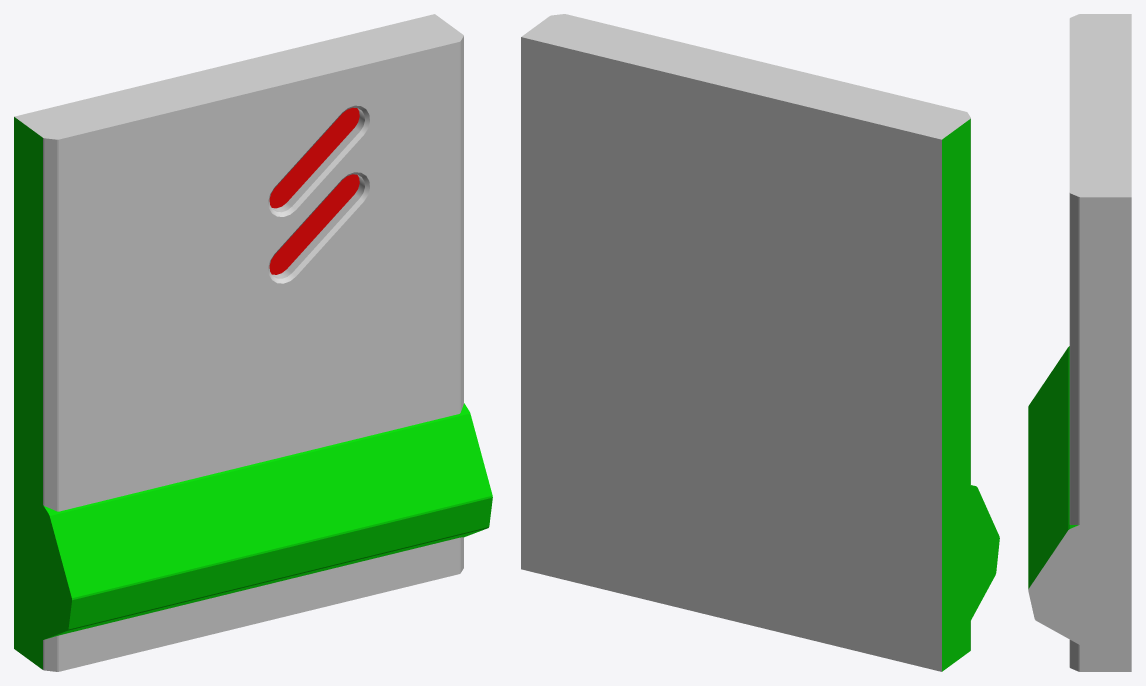
File: wall_cut_bump.obj
The picture shows the model from 3 angles, left to right: view 1: azimuth 30°, elevation 25°; view 2: azimuth 150°, elevation 25°; view 3: azimuth 270°, elevation 25°; orthographic projection. The views are drawn at different scales.
Parts seen in each view (by area): view 1: object1; view 2: object1; view 3: object1.
Boxes of the visible parts, box(x1,y1,x2,y2) form: object1: box(14, 14, 492, 671); object1: box(521, 14, 999, 671); object1: box(1028, 14, 1131, 671).
Size of the model in its own units: 45.5 by 55 by 10.86.
